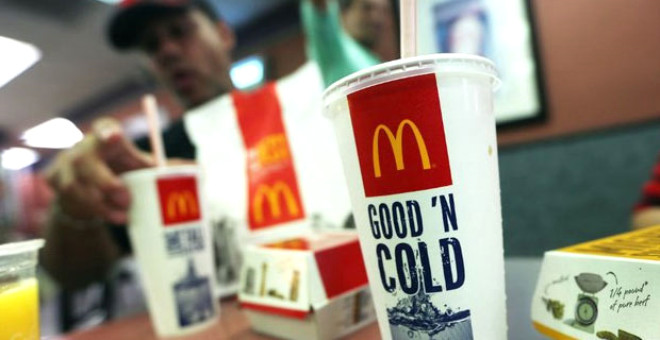mcdonalds: (364, 116, 433, 181)
